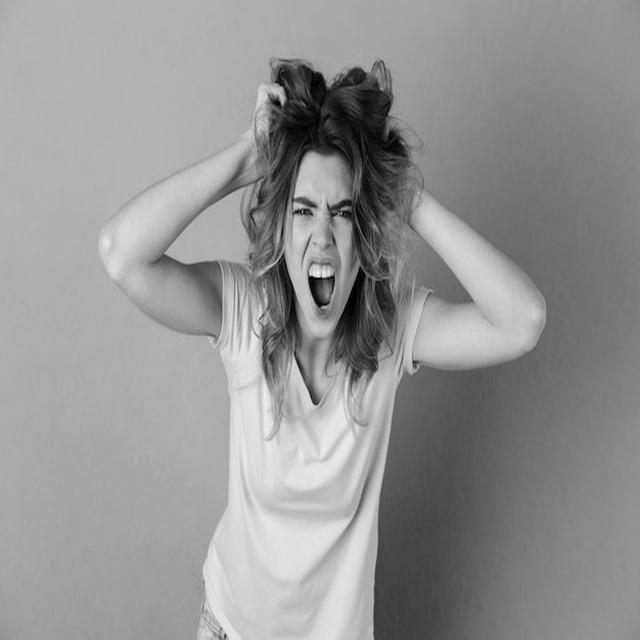Angry: (283, 155, 362, 338)
